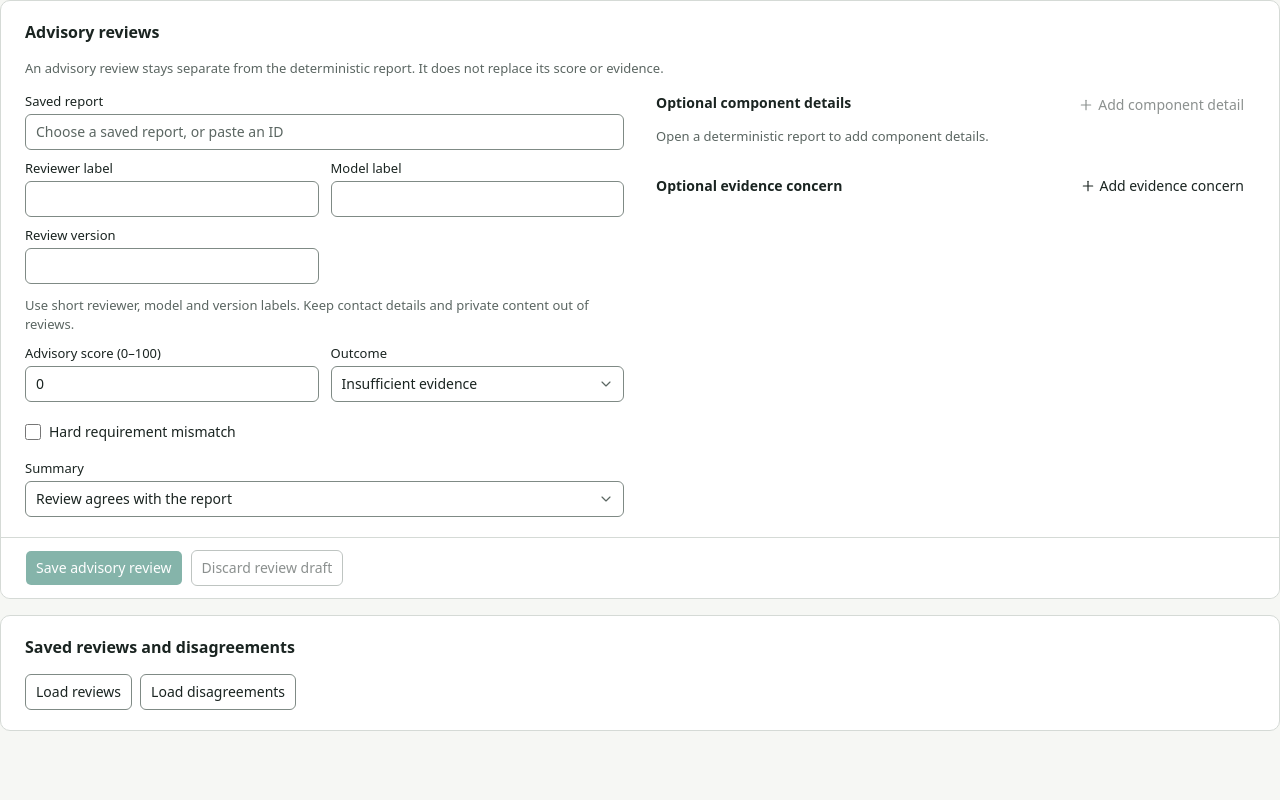
advisory review draft › uses the group titles and checkbox copy for the optional rows
Expected: the field labelled "Reviewer label" is enabled, [25,180,318,216]
Expected: the heading "Optional component details" is shown, [656,94,851,110]
What coordinates should you click on to do the following:
click the button with test id "addEvidenceConcernButton"
I would click on:
 (1162, 186)
Its box is [1068,170,1255,202].
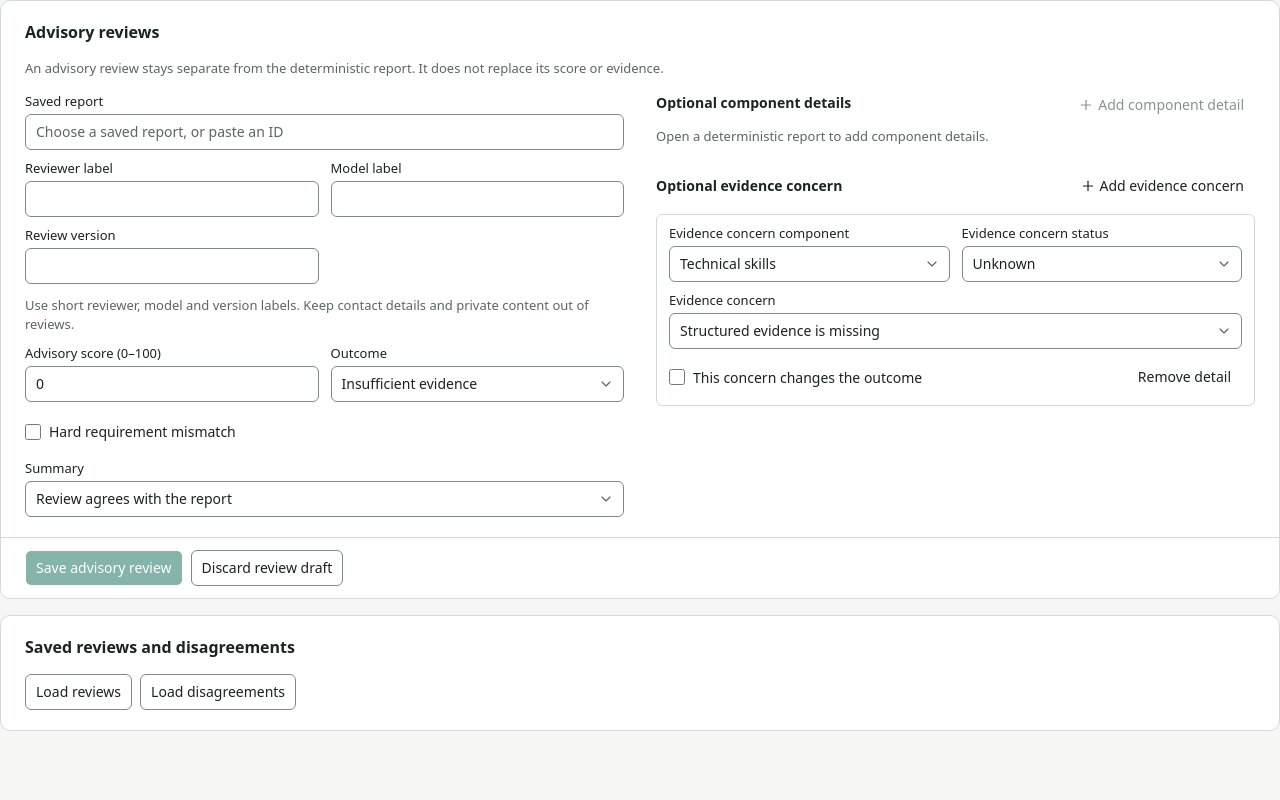
Now the text "This concern changes the outcome" is shown, box [669,368,922,386]
